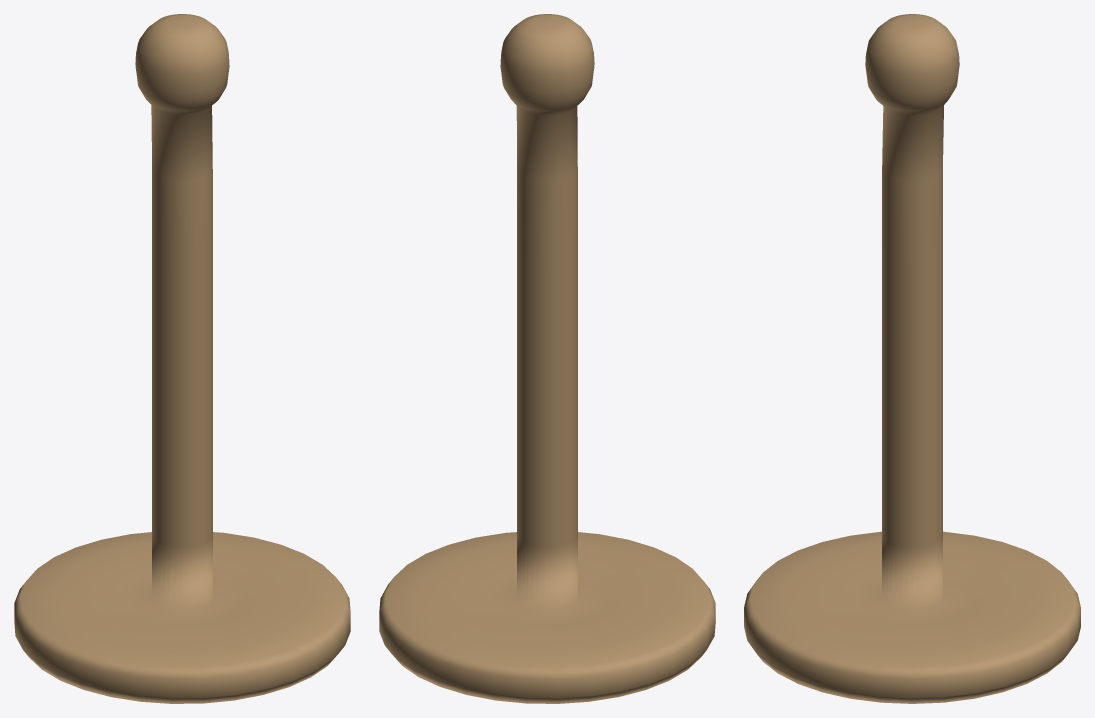
File: PaperTowelHolder.fbx
The picture shows the model from 3 angles, left to right: view 1: azimuth 30°, elevation 25°; view 2: azimuth 150°, elevation 25°; view 3: azimuth 270°, elevation 25°; orthographic projection.
Parts seen in each view (by area): view 1: PaperTowelHolder_Wooden.001; view 2: PaperTowelHolder_Wooden.001; view 3: PaperTowelHolder_Wooden.001.
Boxes of the visible parts, bbox=[...] form: PaperTowelHolder_Wooden.001: bbox=[14, 14, 350, 703]; PaperTowelHolder_Wooden.001: bbox=[379, 14, 715, 703]; PaperTowelHolder_Wooden.001: bbox=[744, 14, 1080, 703].
Bounding box in the file's own units: 52.91 × 106 × 52.91.
